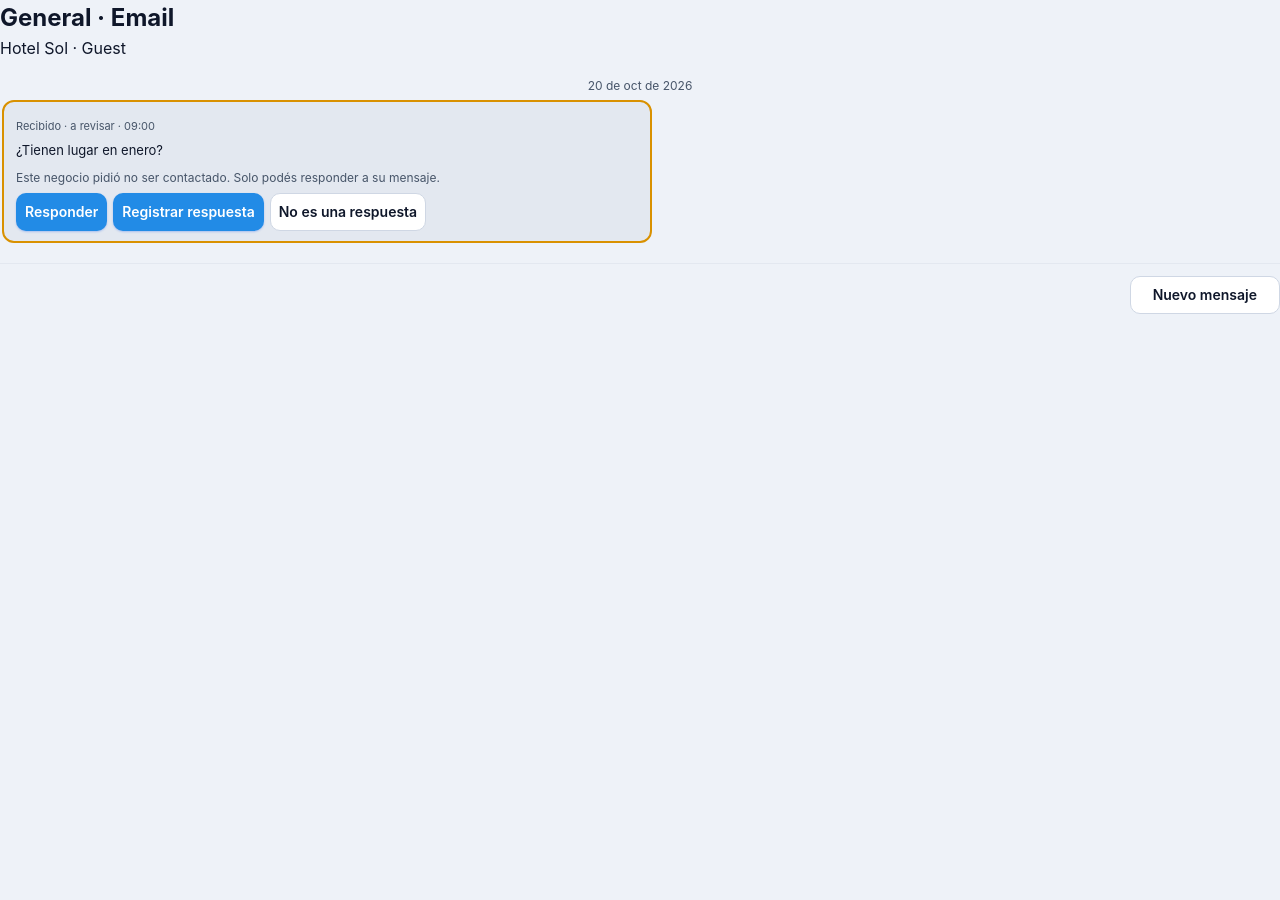
Bandeja detail extras › shows the restricted notice next to the actions and opens the contact flow from «Nuevo mensaje»
The image size is (1280, 900).
Expected: the text "Este negocio pidió no ser contactado. Solo podés responder a su mensaje." is shown, left=16, top=170, right=440, bottom=184
Click the button "Nuevo mensaje": (1205, 294) left=1130, top=276, right=1279, bottom=314
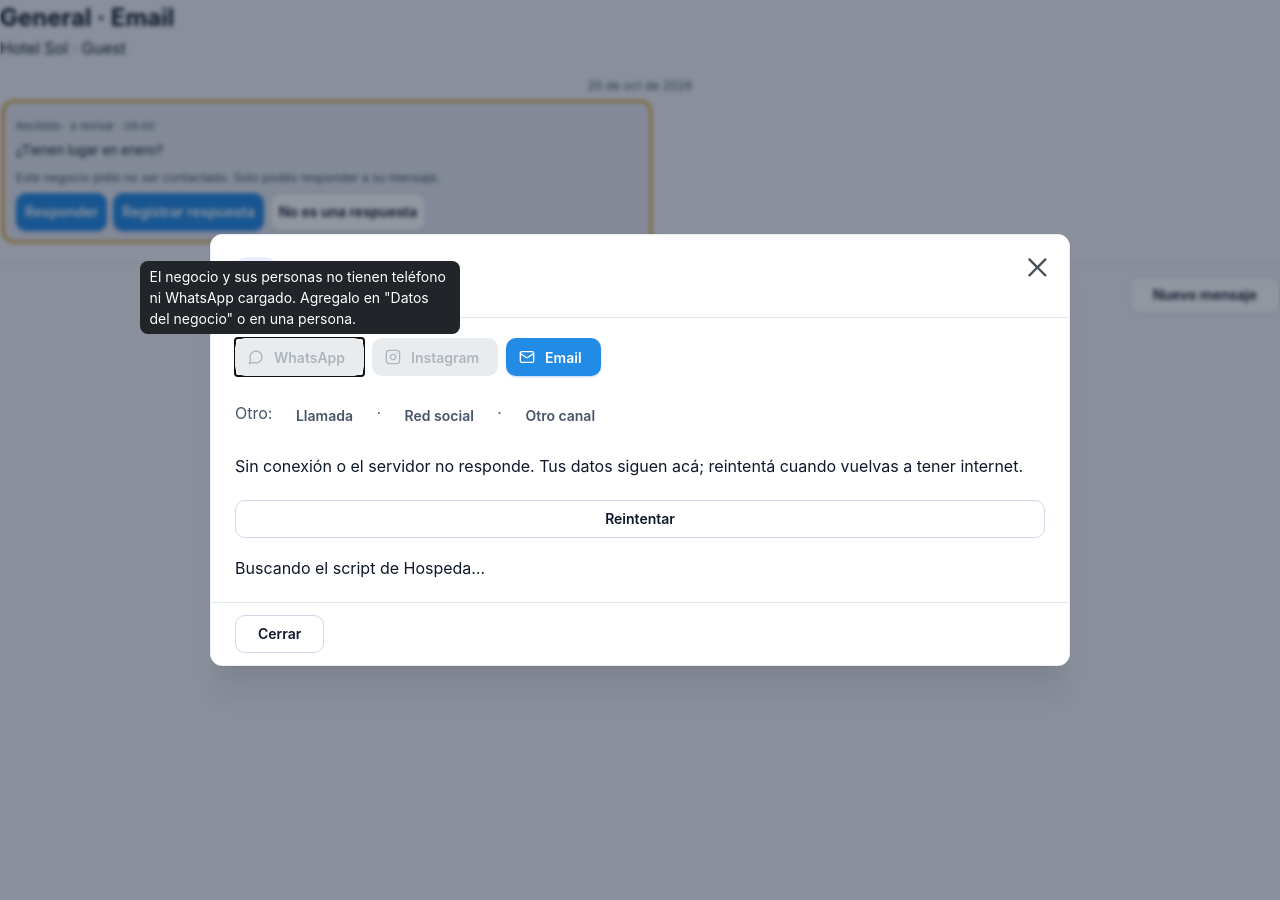
Now the heading "Preparar email" is shown, box left=289, top=265, right=421, bottom=289
Now the element named "Canal" is shown, box left=235, top=338, right=498, bottom=376
